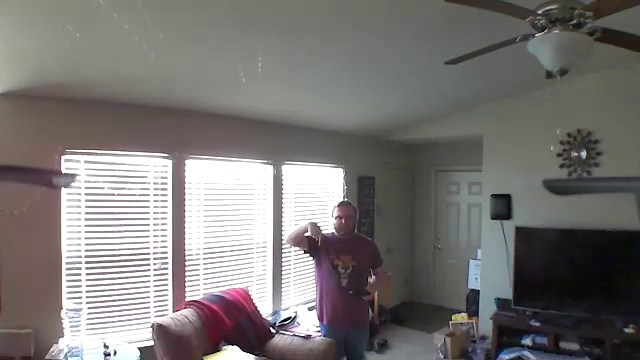down: (304, 218, 329, 248)
